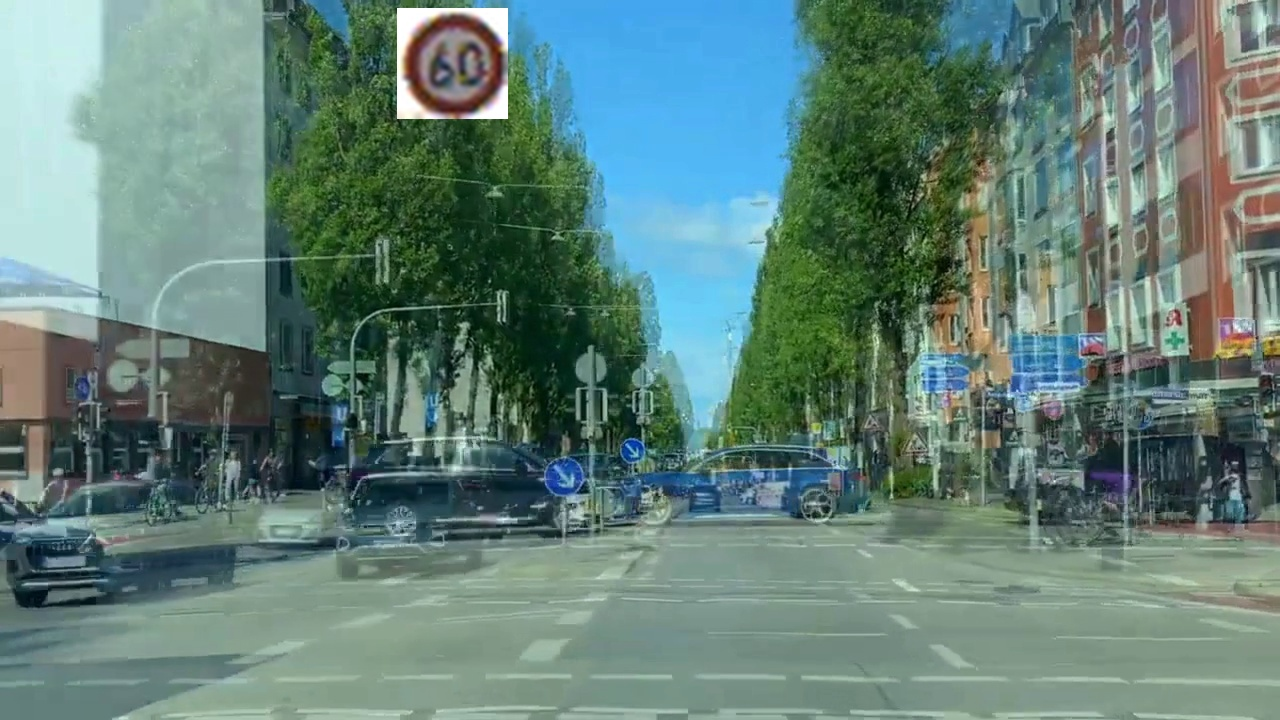Speed 60: (397, 8, 508, 119)
